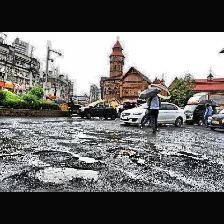pothole: (29, 166, 101, 186), (111, 148, 137, 156), (78, 156, 98, 164), (80, 140, 97, 144)
